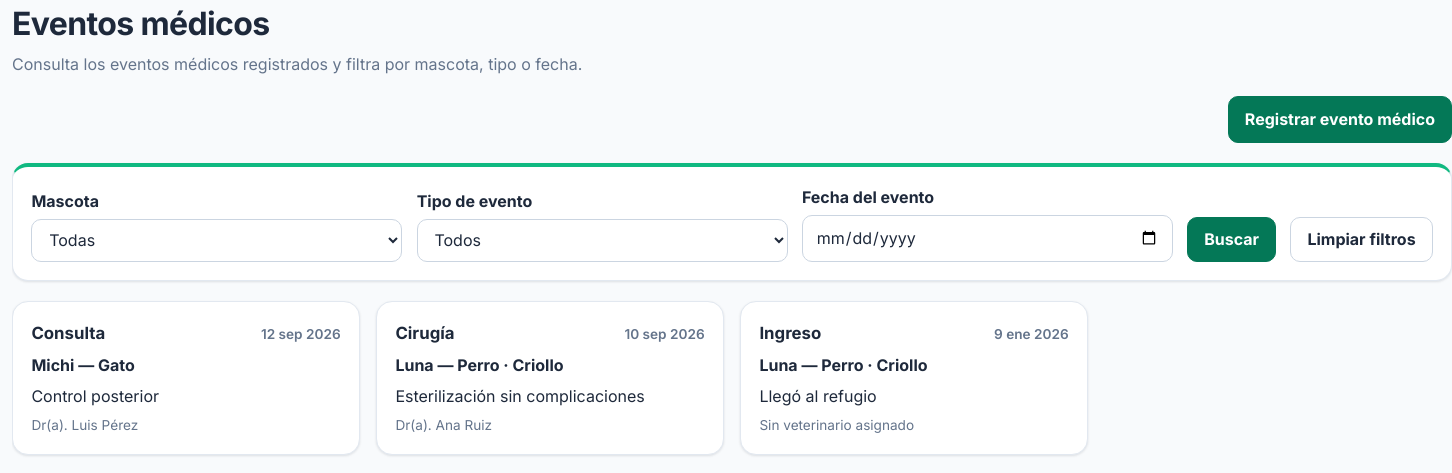
Scenario: MedicalEventsPage › clears the filters and shows every event again
Select "Luna — Perro" in the dropdown labelled "Mascota" at coordinates (217, 240), box left=31, top=219, right=402, bottom=262
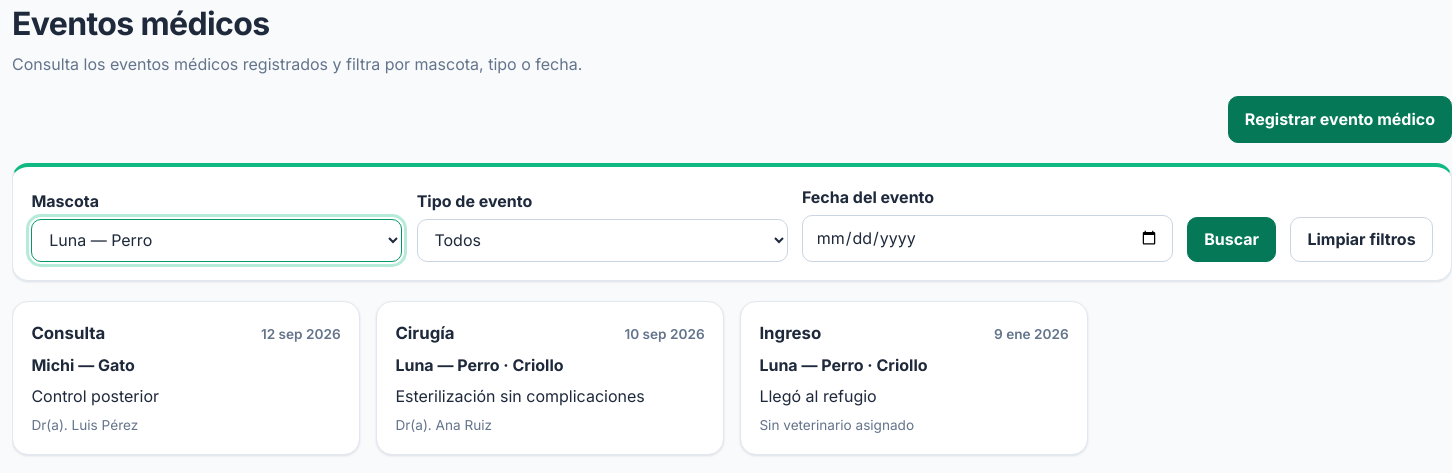
Click the button "Buscar".
click(1232, 239)  # box left=1187, top=217, right=1276, bottom=262
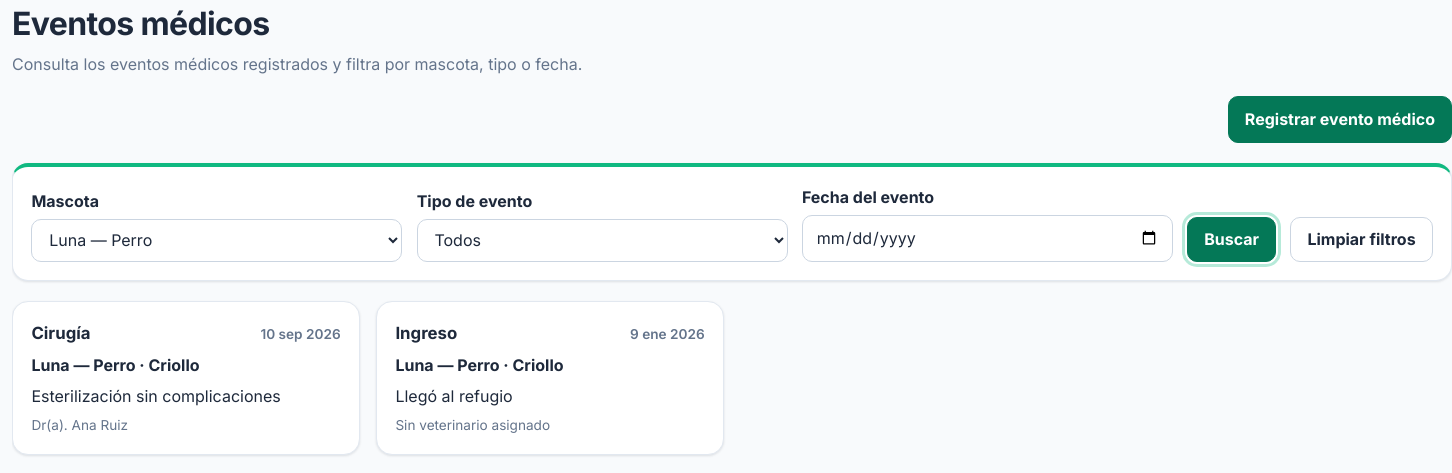
Expected: the number of list items is 2, left=12, top=301, right=360, bottom=455; left=376, top=301, right=724, bottom=455
Click the button "Limpiar filtros".
click(1362, 239)  # box left=1290, top=217, right=1433, bottom=262
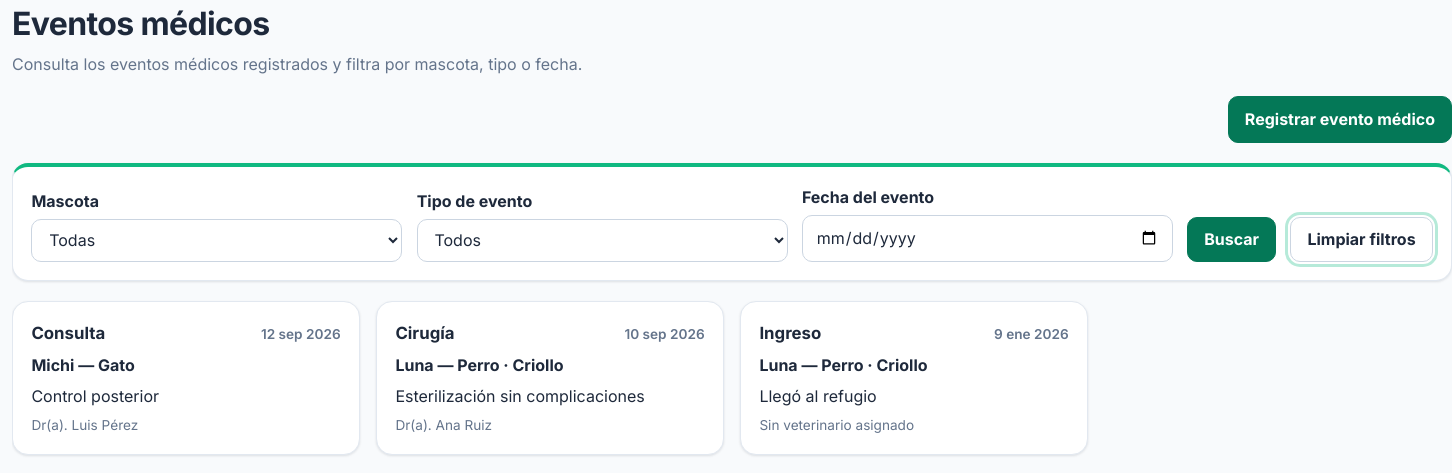
Expected: the number of list items is 3, left=12, top=301, right=360, bottom=455; left=376, top=301, right=724, bottom=455; left=740, top=301, right=1088, bottom=455
